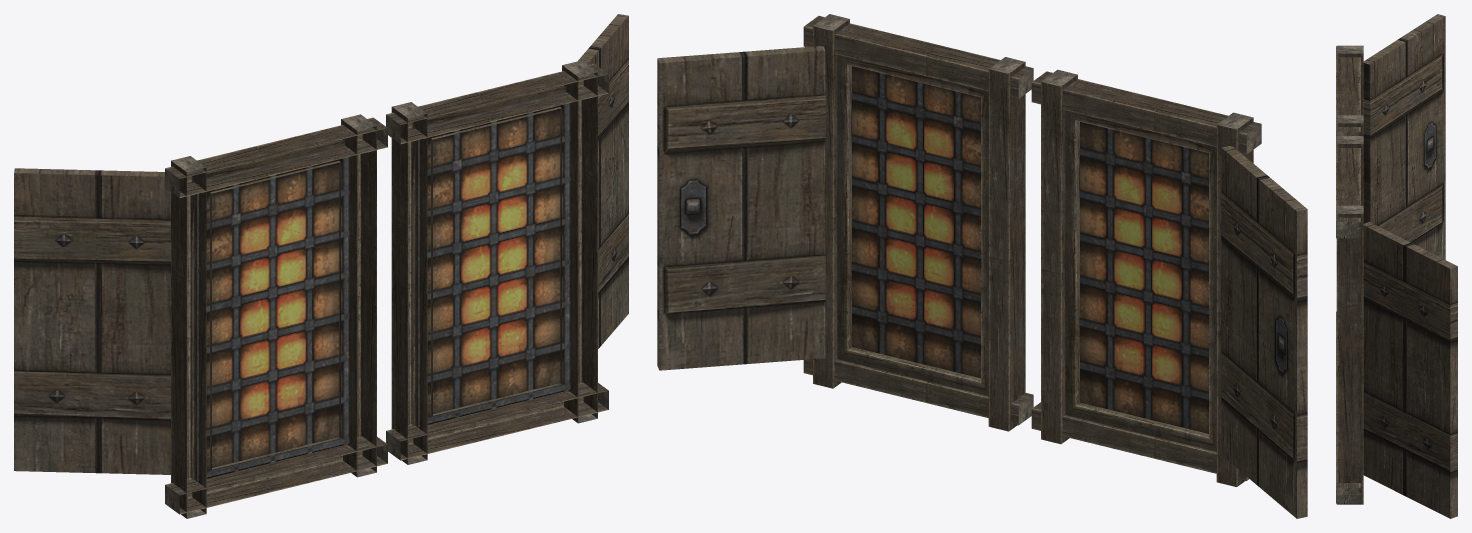
Rendered from Window9B.fbx.
The picture shows the model from 3 angles, left to right: view 1: azimuth 30°, elevation 25°; view 2: azimuth 150°, elevation 25°; view 3: azimuth 270°, elevation 25°; orthographic projection. The views are drawn at different scales.
Parts seen in each view (by area): view 1: polySurface4062; view 2: polySurface4062; view 3: polySurface4062.
Boxes of the visible parts, x1=… form: polySurface4062: x1=14, y1=14, x2=628, y2=518; polySurface4062: x1=657, y1=14, x2=1307, y2=518; polySurface4062: x1=1336, y1=14, x2=1457, y2=518.
Bounding box in the file's own units: 5.84 × 3.11 × 1.18.
